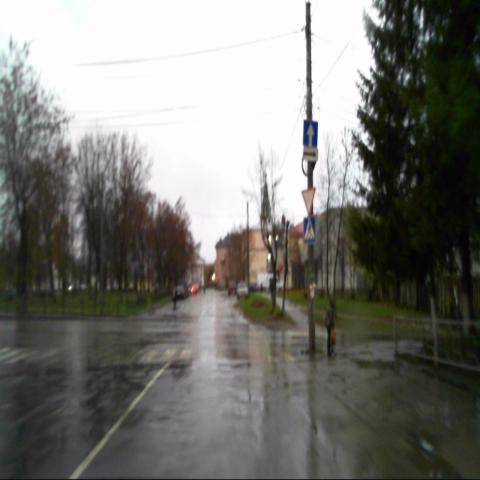2_4: (302, 187, 316, 215)
5_5: (303, 120, 318, 147)
8_3_1: (303, 147, 318, 161)
